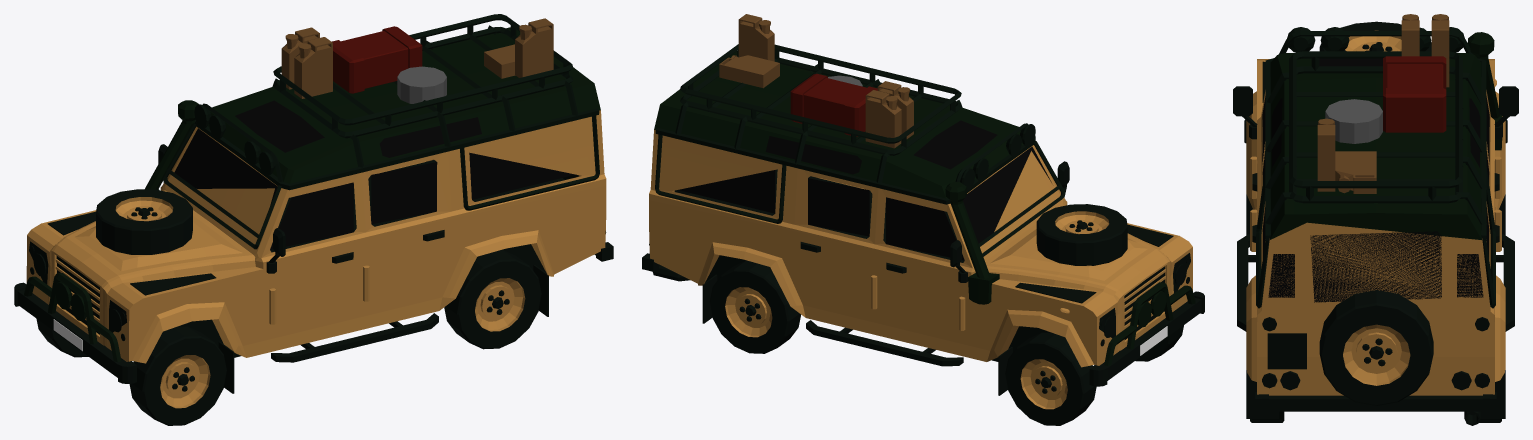
File: landyroamer.lod.glb
3 renders of one model, left to right at view 1: azimuth 30°, elevation 25°; view 2: azimuth 150°, elevation 25°; view 3: azimuth 270°, elevation 25°, orthographic. The views are drawn at different scales.
Parts seen in each view (by area): view 1: landy; view 2: landy; view 3: landy.
Boxes of the visible parts, x1=… form: landy: x1=14, y1=14, x2=613, y2=425; landy: x1=642, y1=14, x2=1204, y2=425; landy: x1=1233, y1=14, x2=1518, y2=425.
Size of the model in its own units: 3.88 by 2.05 by 1.61.
3 materials, 2 textured.
